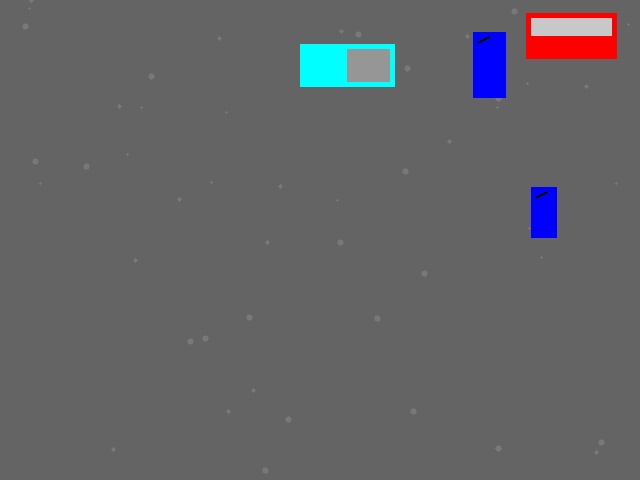car: (526, 13, 616, 58)
motorcycle: (473, 32, 505, 97), (531, 187, 556, 237)
truck: (300, 44, 394, 86)
